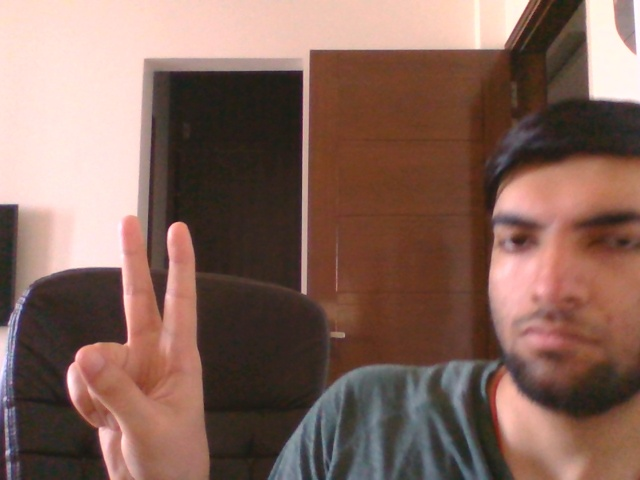LetterV: (64, 210, 213, 479)
